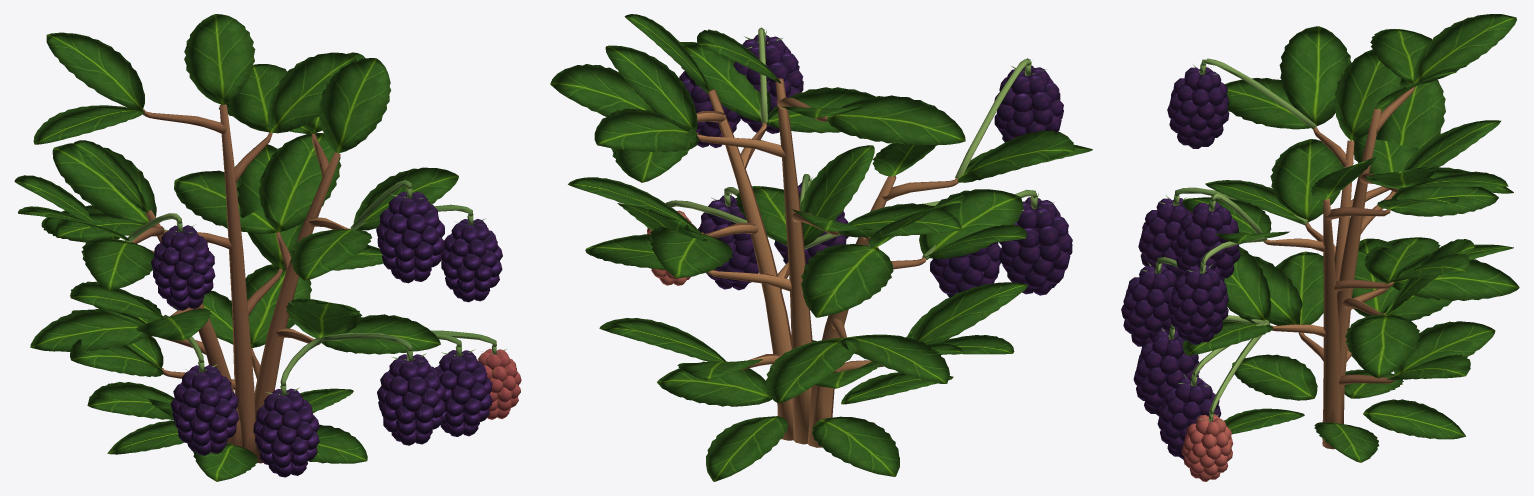
Rendered from NP_Blackberry_Ready.fbx.
3 renders of one model, left to right at view 1: azimuth 30°, elevation 25°; view 2: azimuth 150°, elevation 25°; view 3: azimuth 270°, elevation 25°, orthographic. The views are drawn at different scales.
Visible parts, largest first — view 1: NP_Blackberry_Ready; view 2: NP_Blackberry_Ready; view 3: NP_Blackberry_Ready.
Part boxes in pixels (x1,y1,x2,y2): NP_Blackberry_Ready: (14,14,521,481); NP_Blackberry_Ready: (550,14,1092,481); NP_Blackberry_Ready: (1121,14,1519,481).
Size of the model in its own units: 110 by 94.18 by 89.12.
